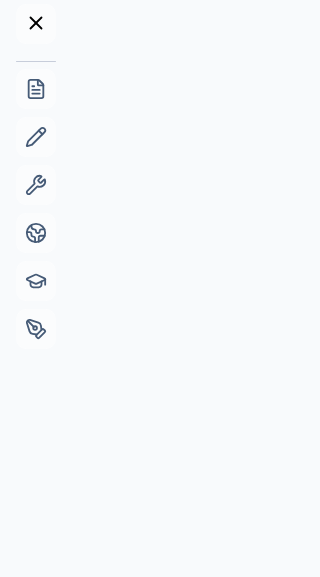
Scenario: AiPanel Component › Sottomenu Traduci › nasconde le lingue al secondo click su Traduci (toggle)
The image size is (320, 577).
Click the button named "Traduci".
click(36, 233)  # box [16,213,56,253]
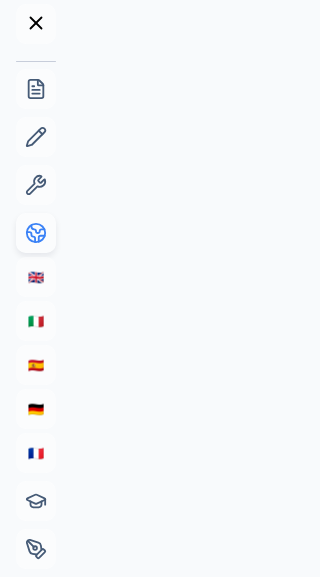
Click the button named "Traduci".
click(36, 233)  # box [16,213,56,253]
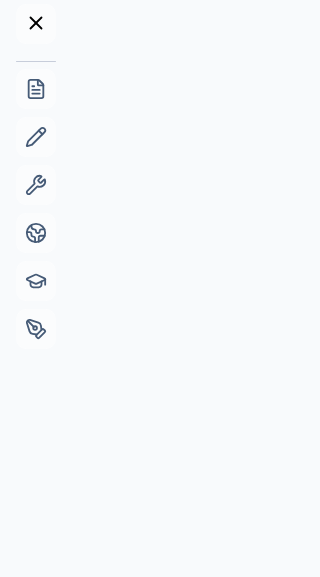
Now the button "Inglese" is gone
